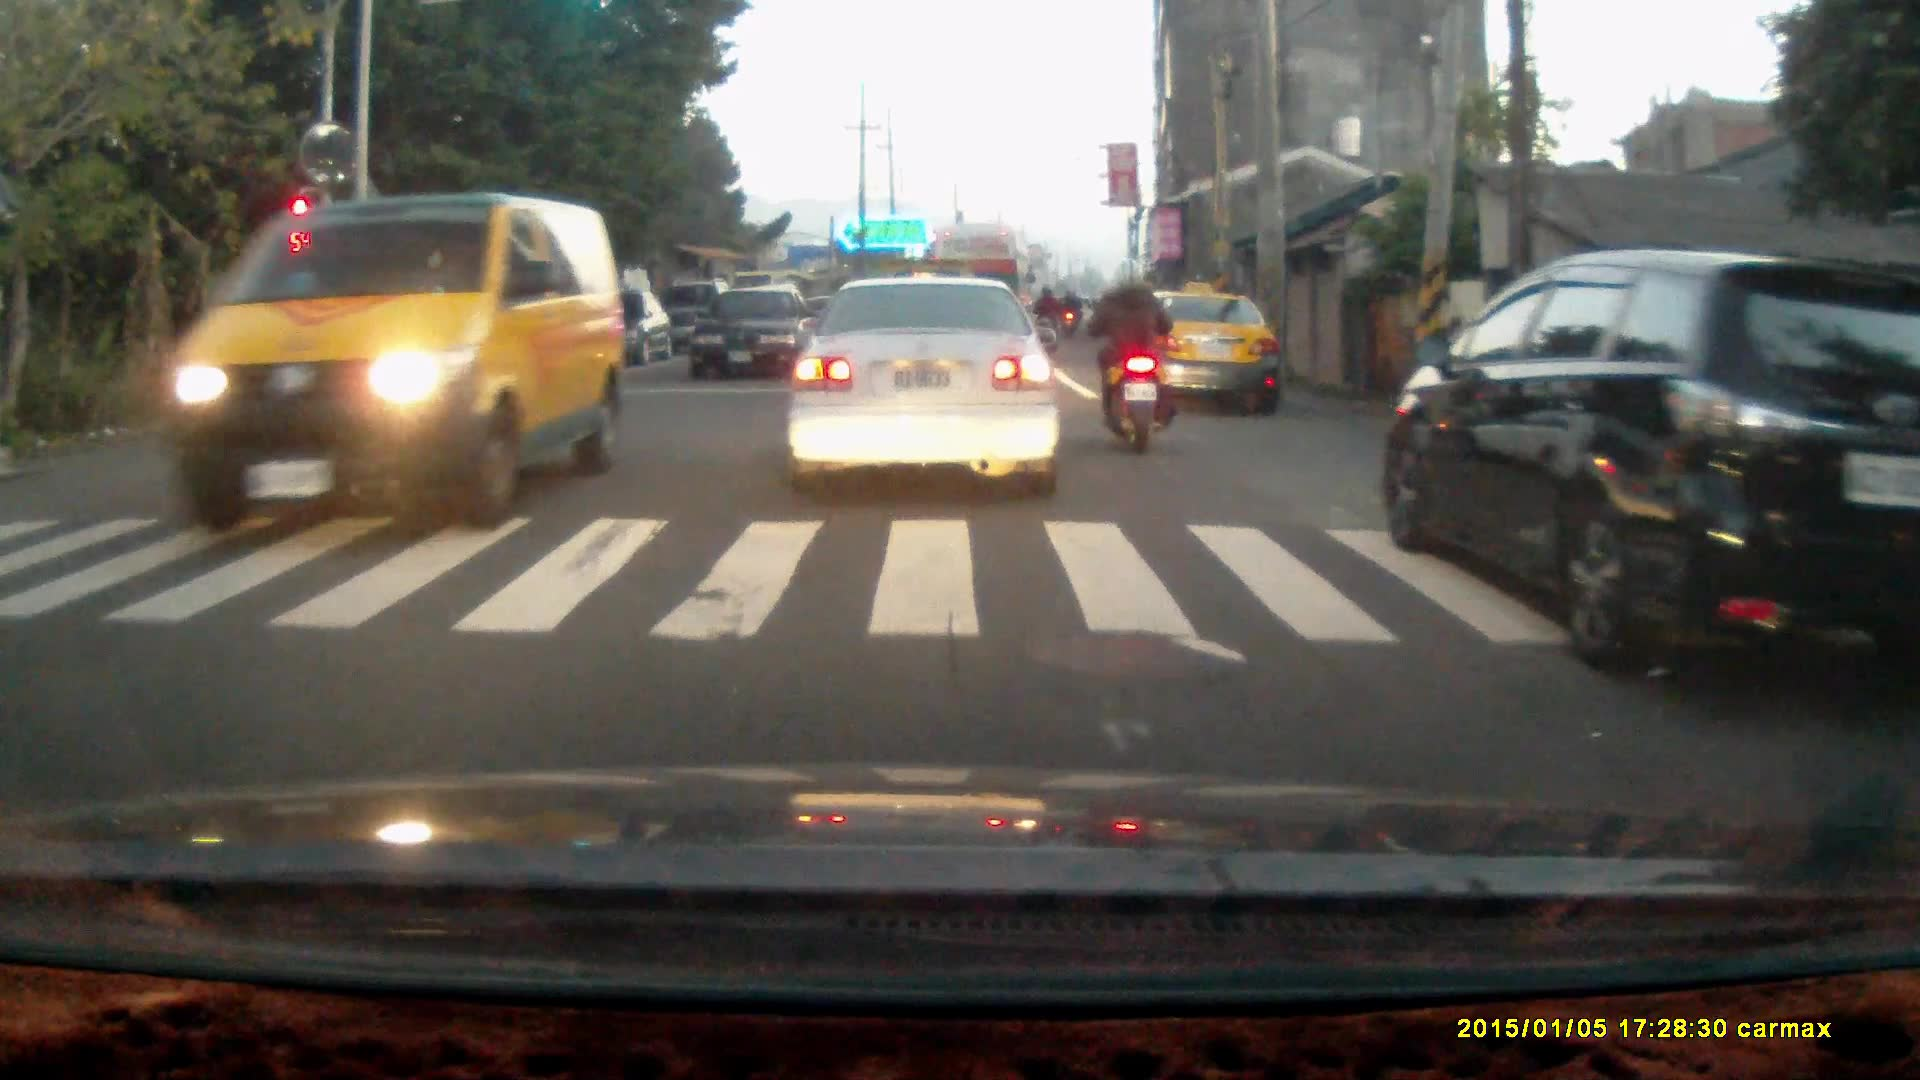rider: (1079, 258, 1171, 457)
vehicle: (1381, 247, 1920, 719), (153, 194, 636, 536), (786, 272, 1065, 501), (1118, 291, 1280, 421), (691, 285, 819, 385)
